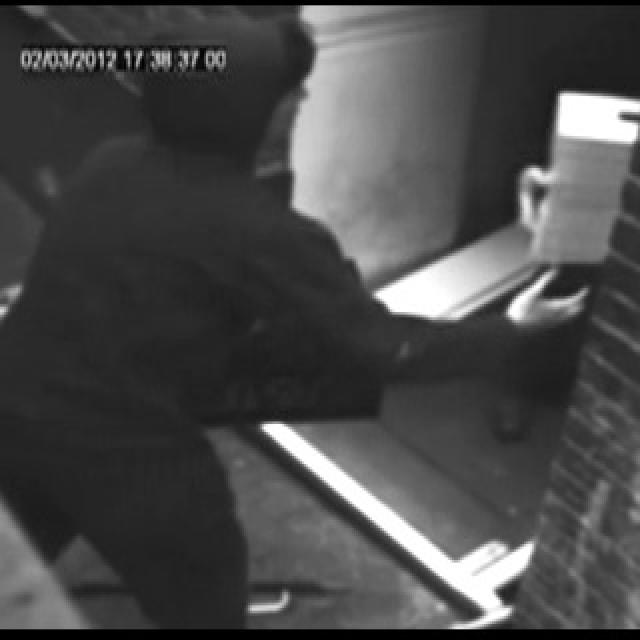thief: (128, 0, 335, 222)
